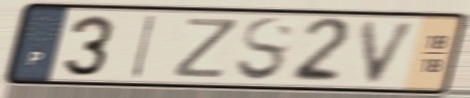2: (290, 15, 355, 86)
3: (60, 12, 117, 78)
I: (128, 13, 160, 81)
S: (233, 15, 298, 85)
V: (358, 19, 423, 86)
Z: (168, 15, 242, 81)
